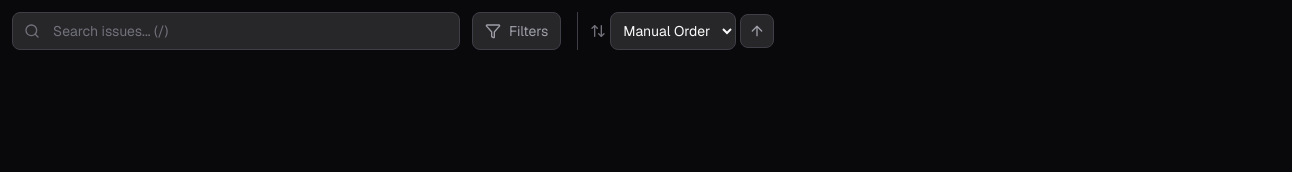
Test: Date Filter Integration Flow › Combined Filters State › should maintain type filter when changing date field
Click the button "Filters".
click(517, 31)  # box [472,12,561,50]
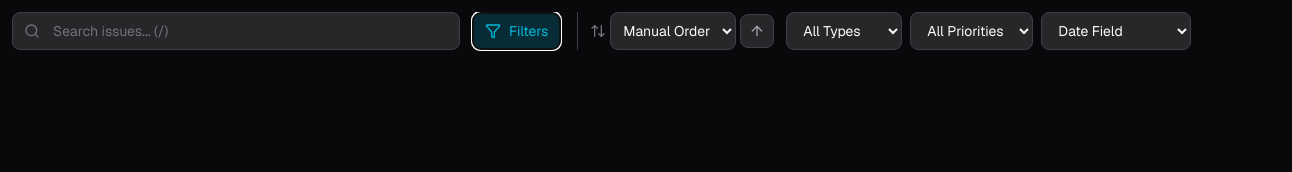
// Set type filter
Select "🐛 Bug" in the 2nd dropdown showing "All Types" at (844, 31), box [786,12,902,50]
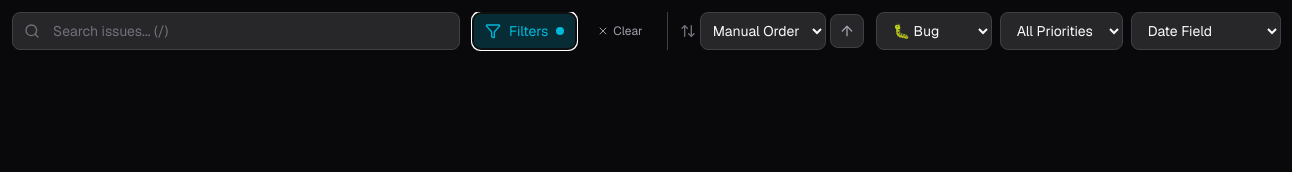
// Set date field
Select "Created Date" in the 4th dropdown showing "Date Field" at (1206, 31), box [1131,12,1281,50]
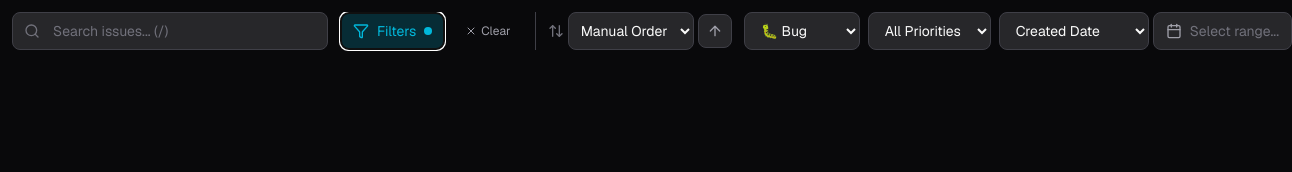
Check: the text "Select range..." is shown, box [1190,21,1279,41]
